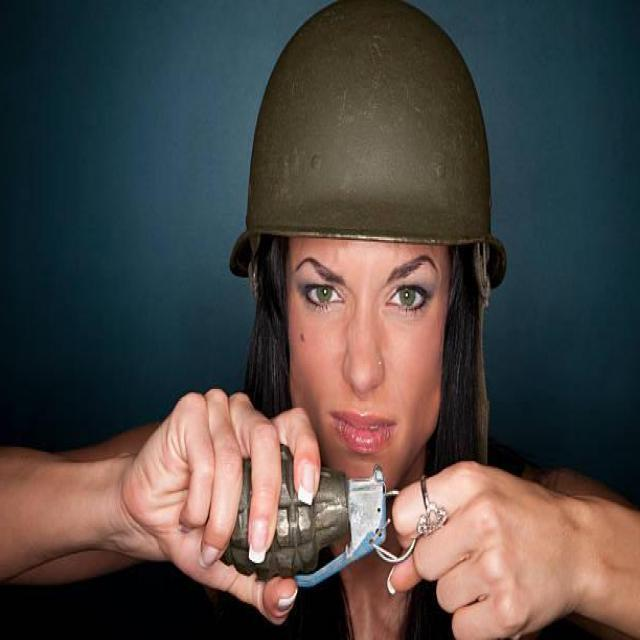grenade: (204, 439, 428, 587)
